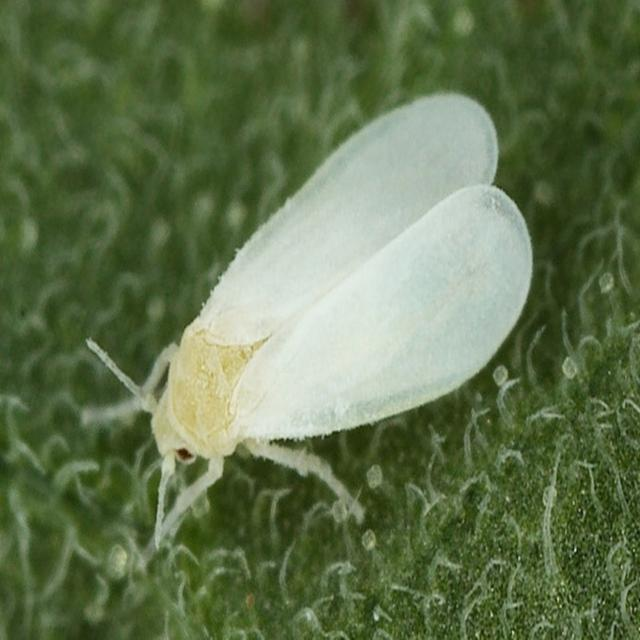Whitefly: (64, 72, 551, 561)
